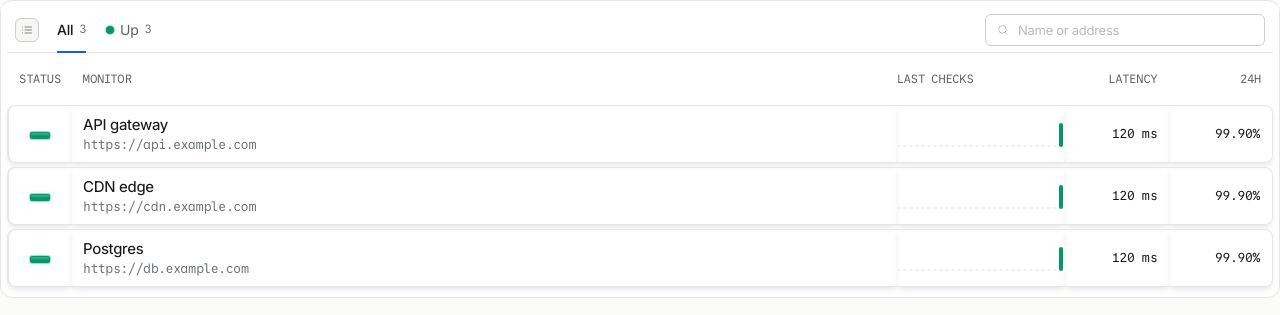
it: Dashboard › filters rows out of the DOM as you search
Step 1. Type "postgres" into the search field named "filter monitors" → (1136, 30), box [1018,22,1254,38]
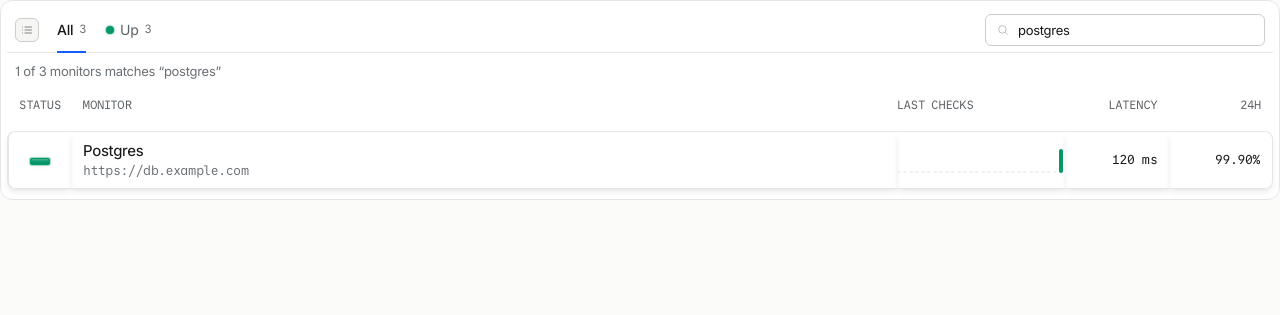
Check: the link "API gateway" is gone
